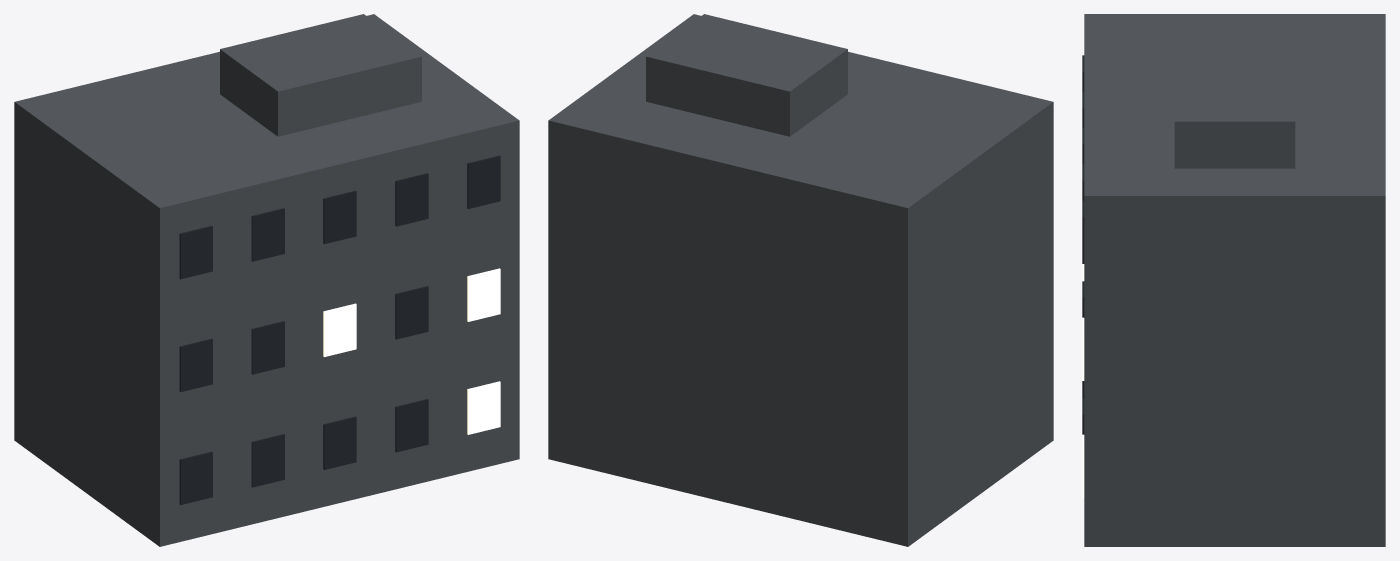
File: buildingLow.glb
3 renders of one model, left to right at view 1: azimuth 30°, elevation 25°; view 2: azimuth 150°, elevation 25°; view 3: azimuth 270°, elevation 25°, orthographic. The views are drawn at different scales.
Parts seen in each view (by area): view 1: buildingLow; view 2: buildingLow; view 3: buildingLow.
Boxes of the visible parts, x1,y1,x2,y2 form: buildingLow: (14, 14, 519, 546); buildingLow: (548, 14, 1053, 546); buildingLow: (1082, 14, 1385, 546).
Size of the model in its own units: 10 by 10.2 by 7.05.
